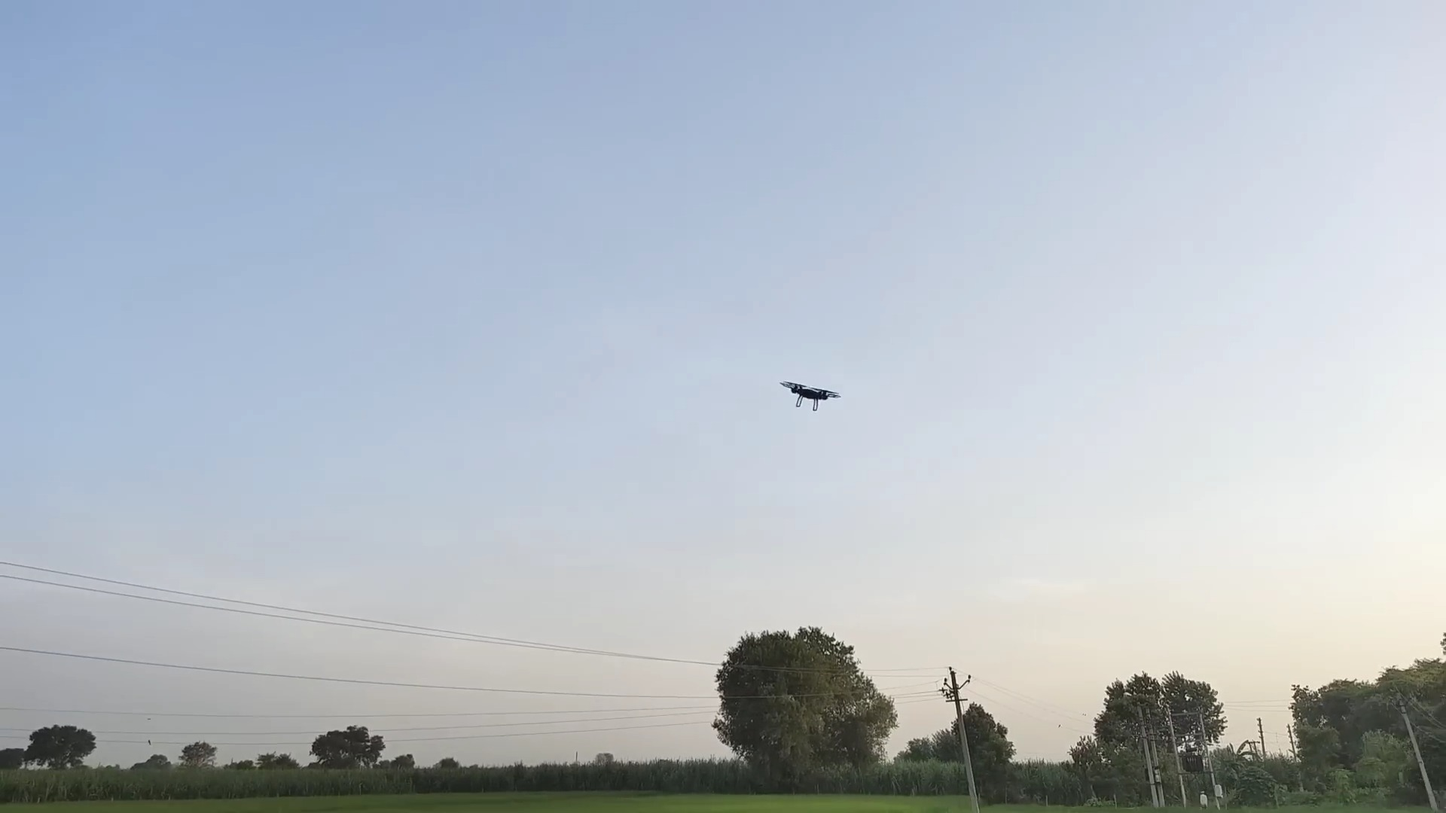drone: (757, 360, 850, 426)
